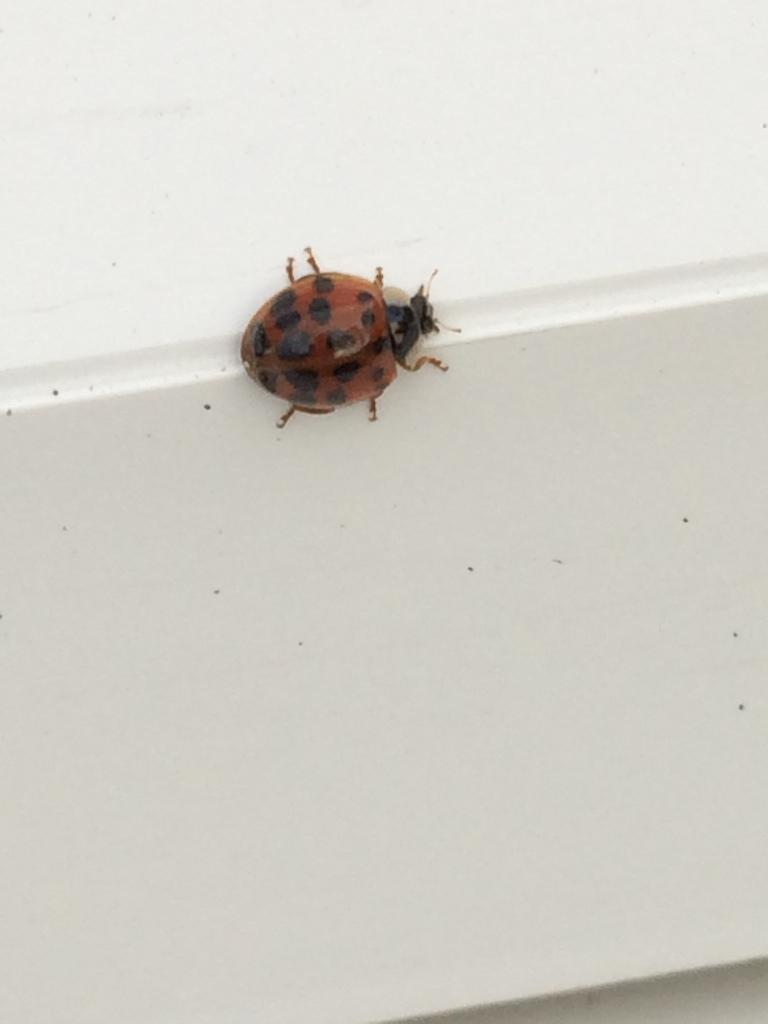ladybug: (239, 244, 469, 431)
